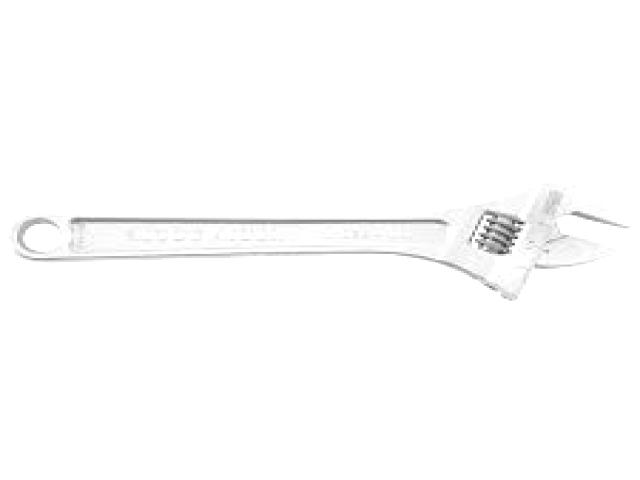Adjustable spanner: (11, 180, 631, 300)
